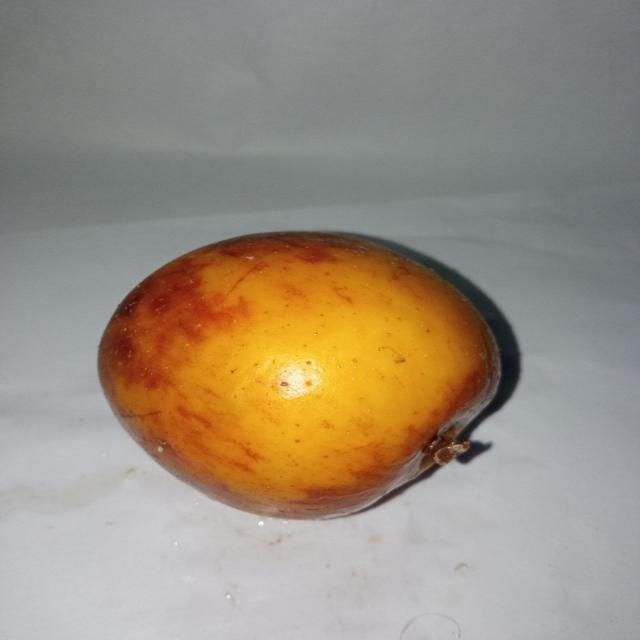rotten_apple: (93, 231, 504, 521)
